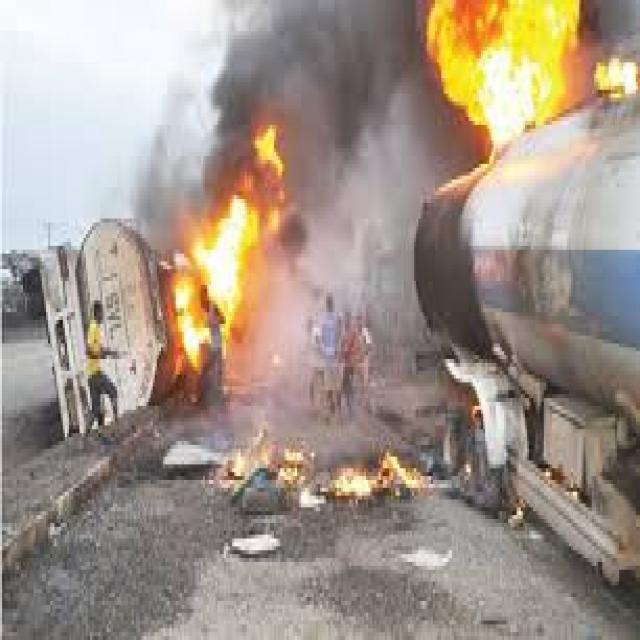fire: (420, 4, 640, 168), (172, 195, 255, 371), (330, 445, 420, 507), (253, 121, 282, 179)
smoke: (197, 4, 420, 254)
